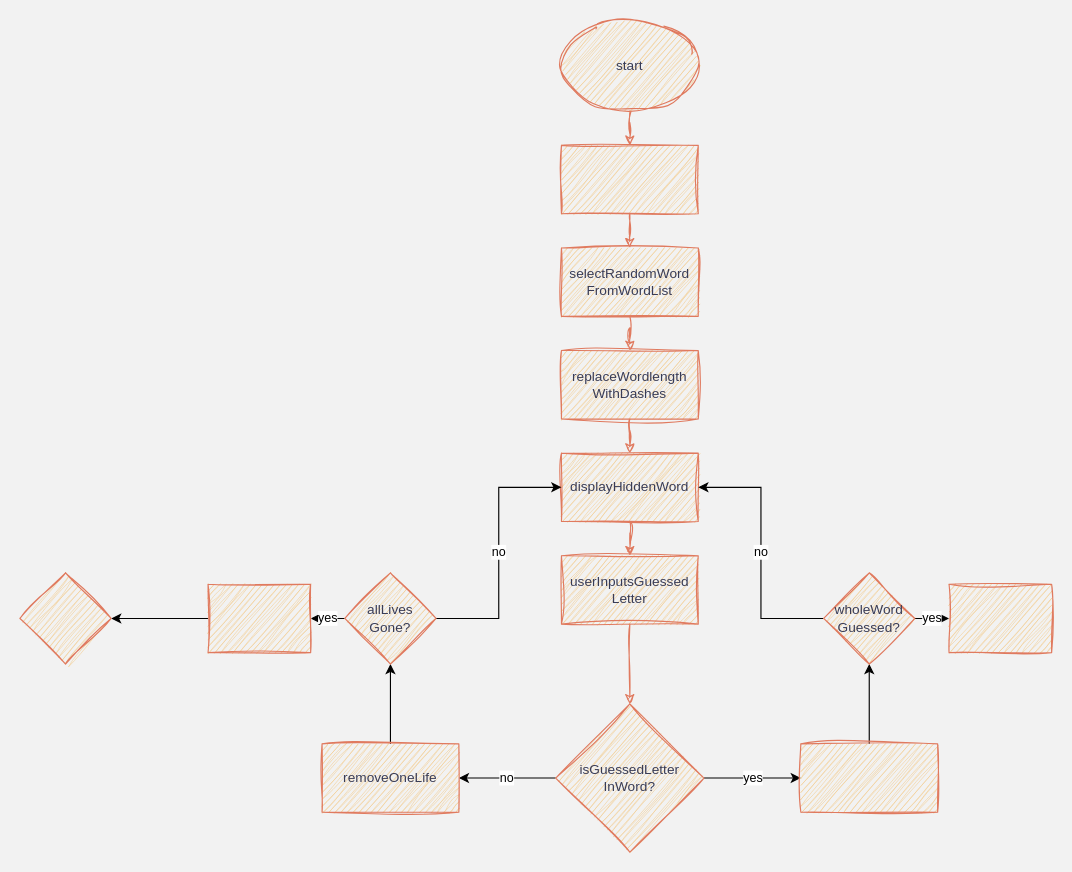
This 1072x872 diagram has some shape labels left out. Each missing label, with the centre of its shape:
"displayCorrectLetter InHiddenWord" belongs at point (869, 777).
"gameOverYou LoseMessage" belongs at point (259, 618).
"gameOverYou WinMessage" belongs at point (1000, 618).
"loadWordList" belongs at point (629, 179).
